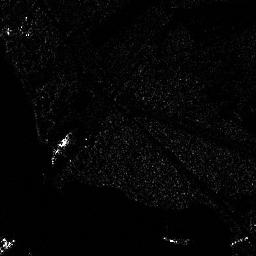ship: (48, 130, 73, 164)
